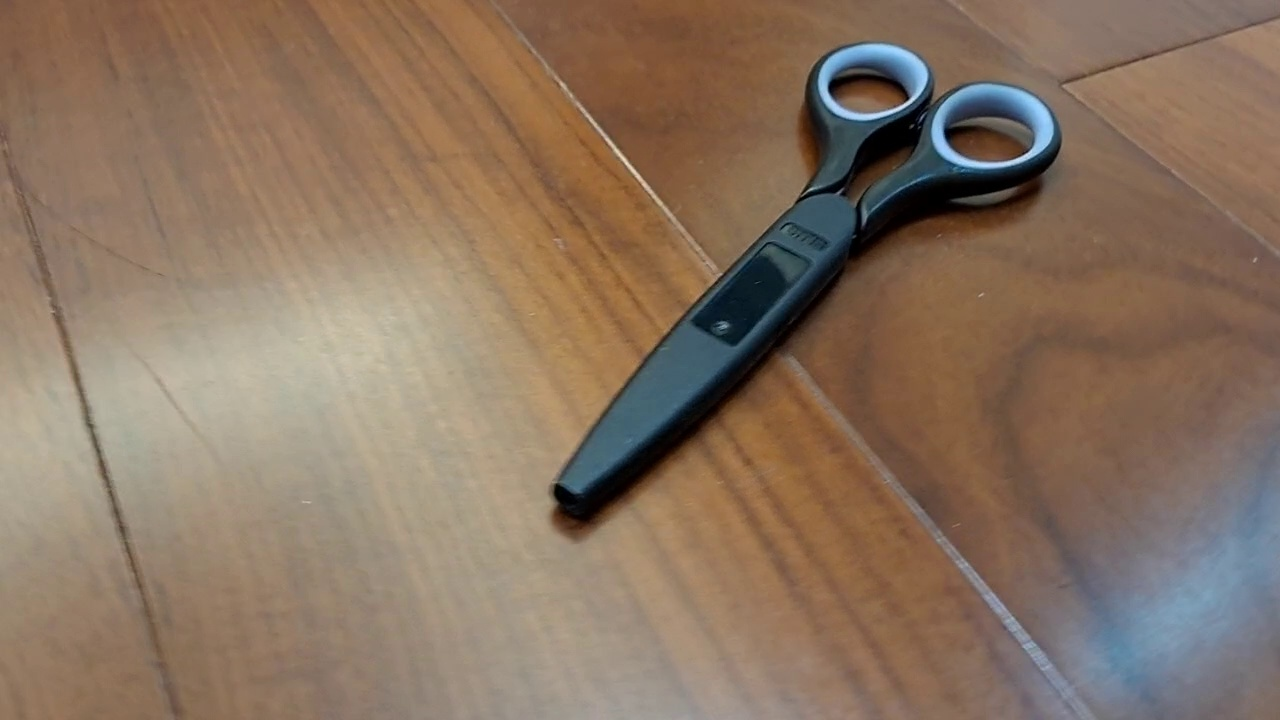scissors: (548, 39, 1063, 522)
